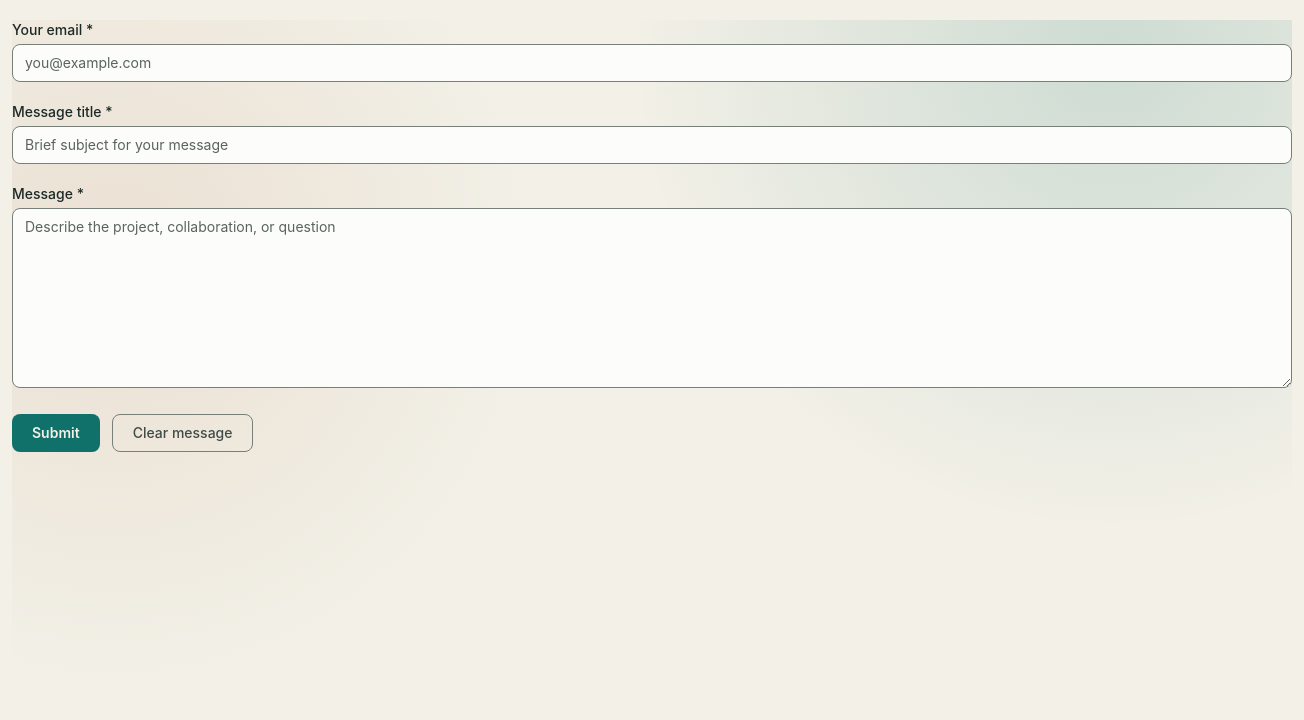
Test case: ContactForm submit behavior › shows a success message when the API returns ok true
Type "visitor@example.com" into the field labelled "Your email *" at (652, 63), box [12,44,1292,82]
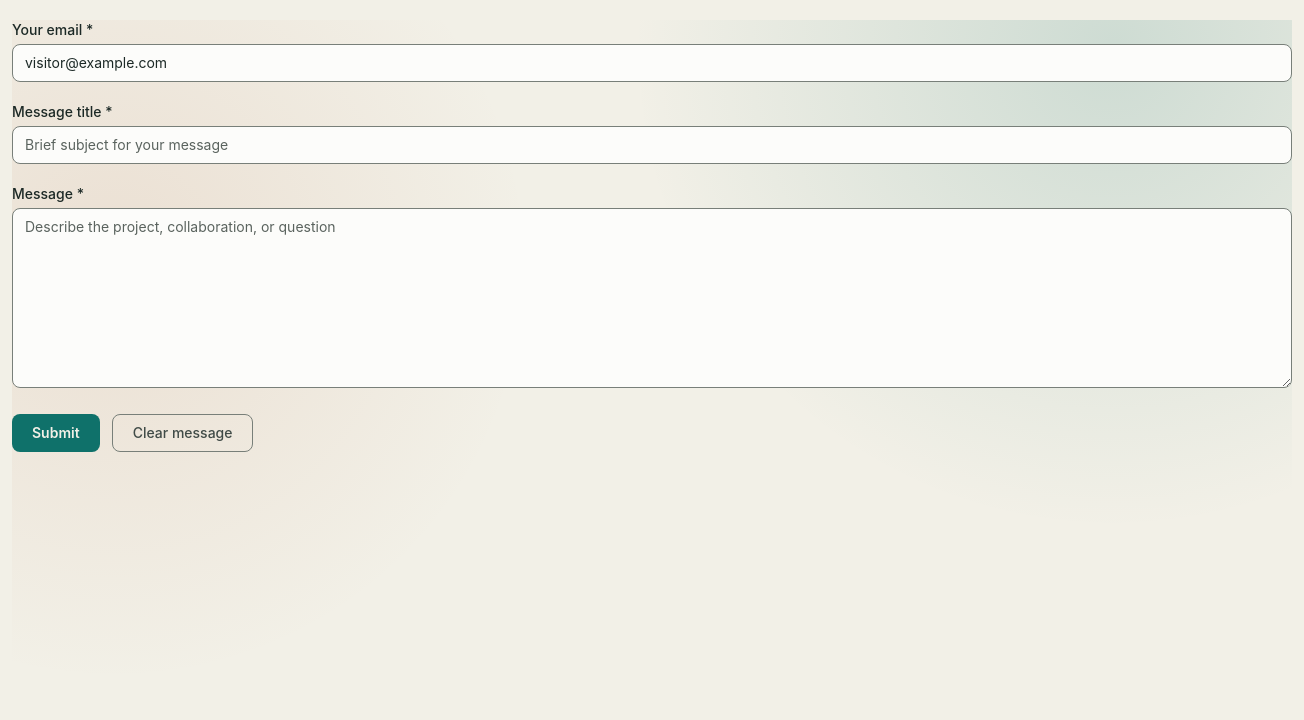
Type "Hello there" into the field labelled "Message title *" at (652, 145), box [12,126,1292,164]
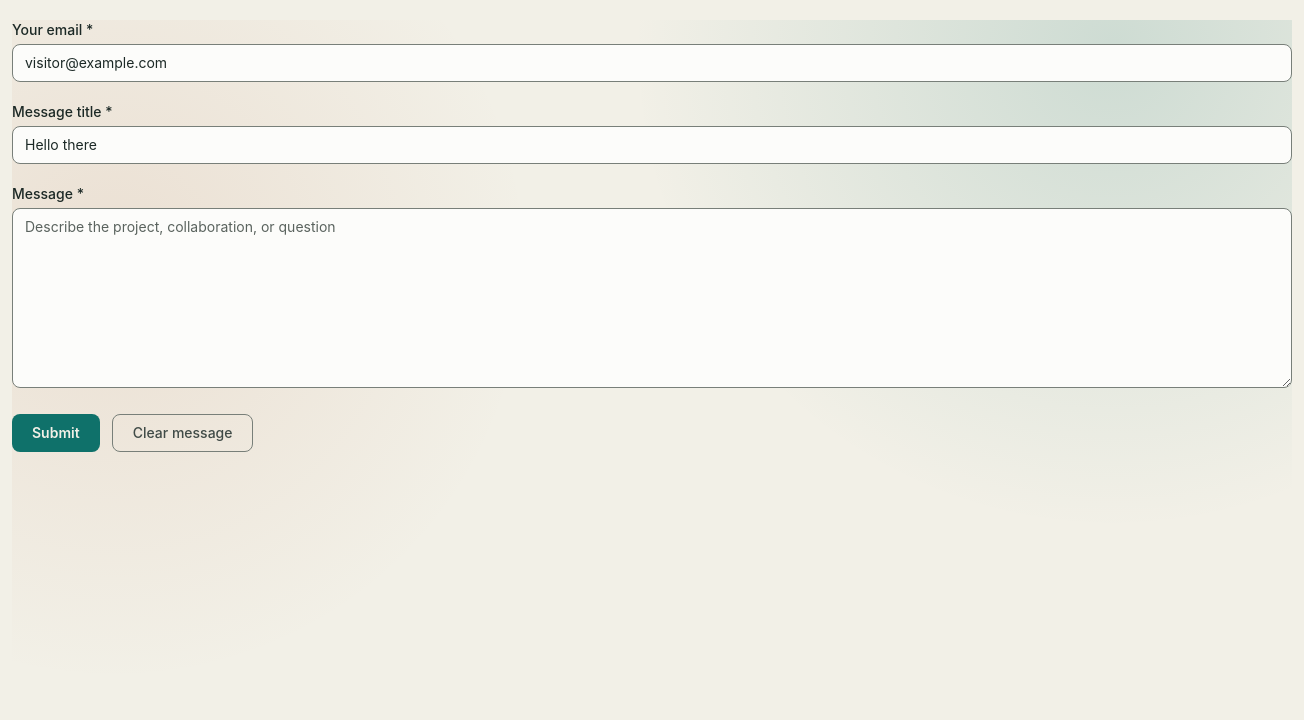
Type "This is a long enough test message." into the text box labelled "Message *" at (652, 298), box [12,208,1292,388]
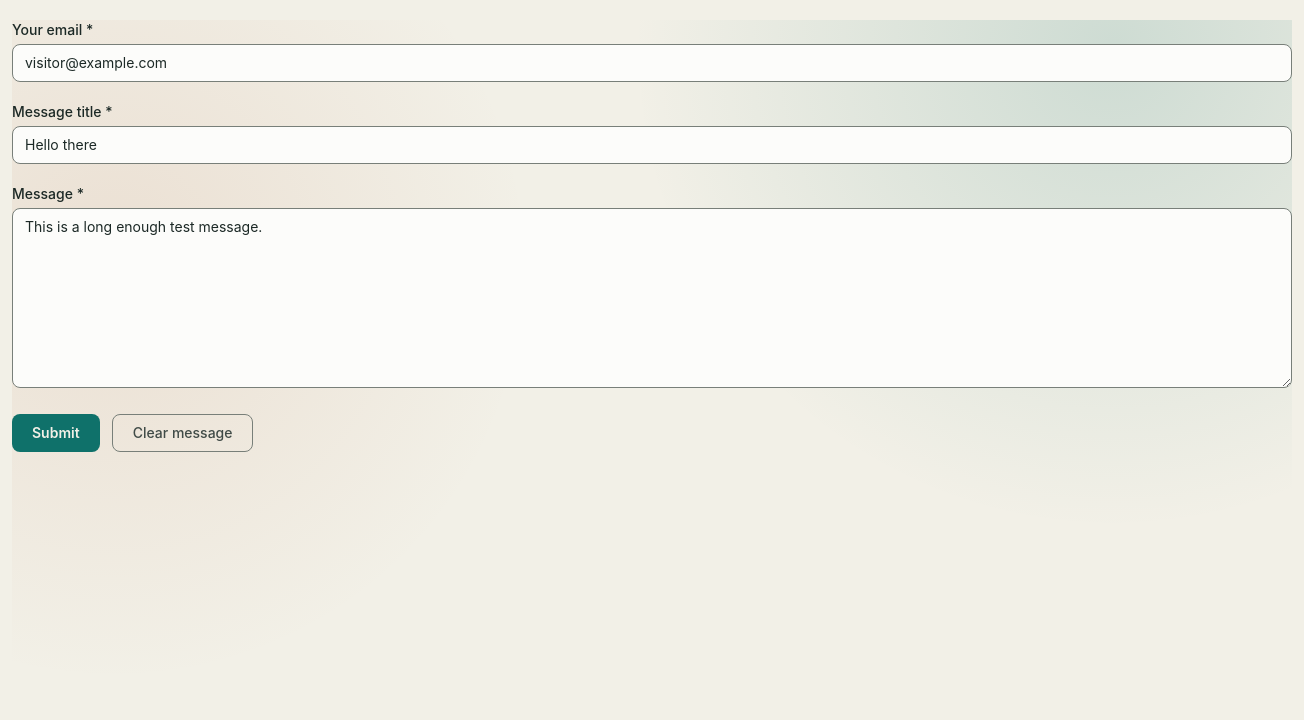
Click the button "Submit" at (56, 433), box [12,414,100,452]
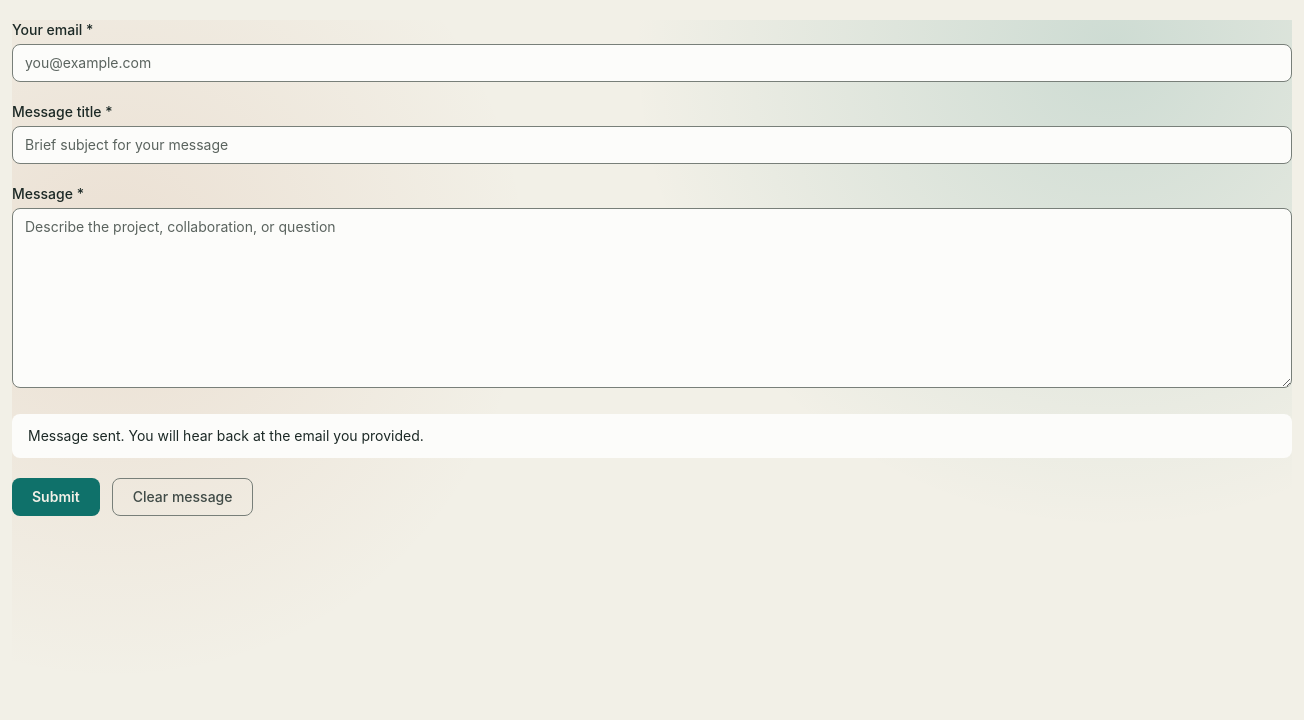
Expected: the message shows "Message sent", [28,427,424,444]
